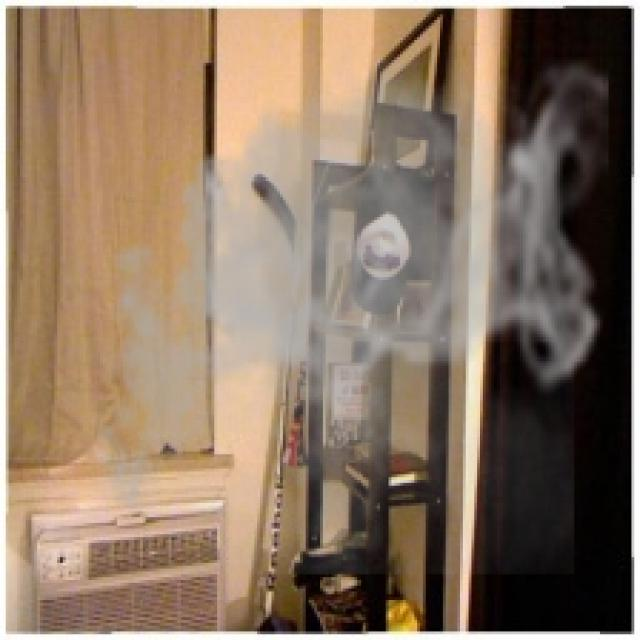smoke: (80, 34, 609, 574)
